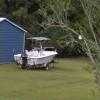Boat: (10, 35, 74, 76)
